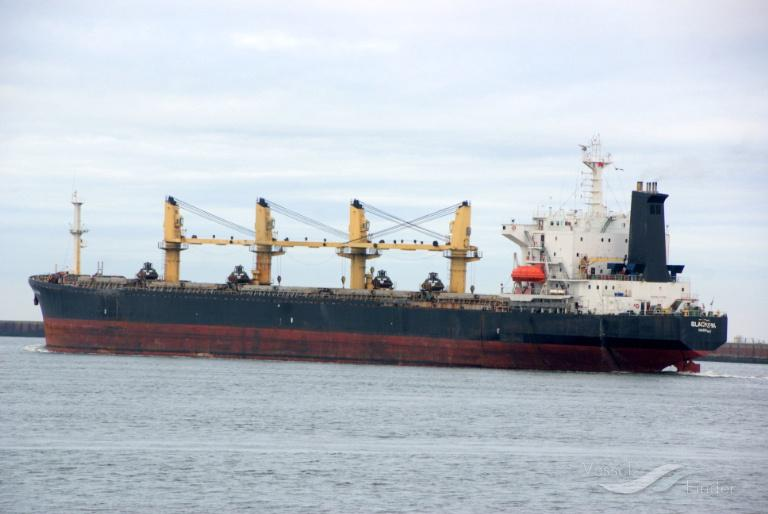OCR: (683, 319, 717, 338)
